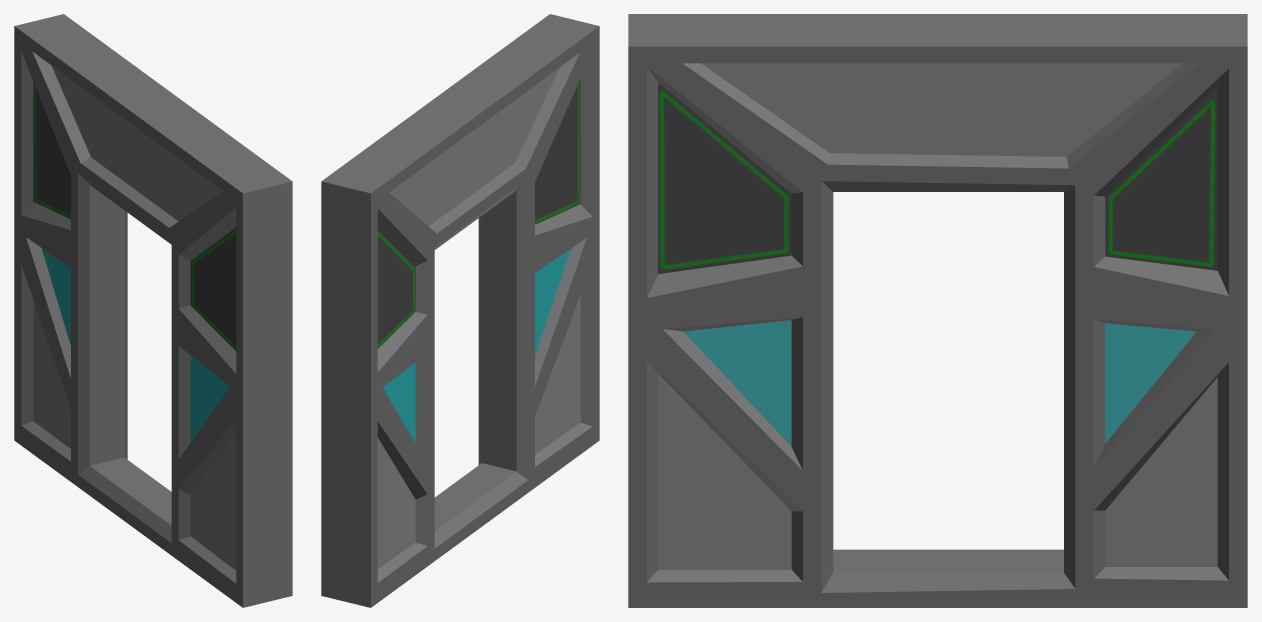
The model's file is SM_B4_Wall_SM_B4_Wall.fbx.
The picture shows the model from 3 angles, left to right: view 1: azimuth 30°, elevation 25°; view 2: azimuth 150°, elevation 25°; view 3: azimuth 270°, elevation 25°; orthographic projection. The views are drawn at different scales.
Parts seen in each view (by area): view 1: SM_B4_Wall_SM_B4_Wall; view 2: SM_B4_Wall_SM_B4_Wall; view 3: SM_B4_Wall_SM_B4_Wall.
Boxes of the visible parts, x1,y1,x2,y2 form: SM_B4_Wall_SM_B4_Wall: (14, 14, 292, 607); SM_B4_Wall_SM_B4_Wall: (321, 14, 599, 607); SM_B4_Wall_SM_B4_Wall: (628, 14, 1247, 607).
Size of the model in its own units: 50.77 by 406 by 406.
1 material, 1 textured.
